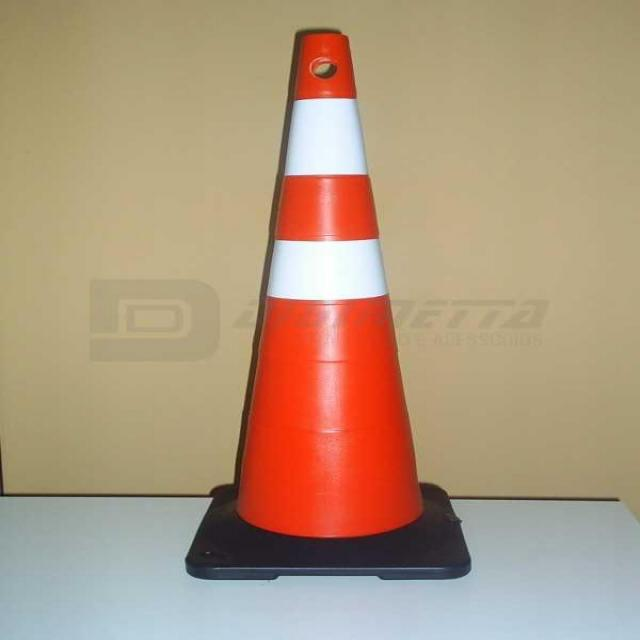cone: (182, 23, 476, 580)
